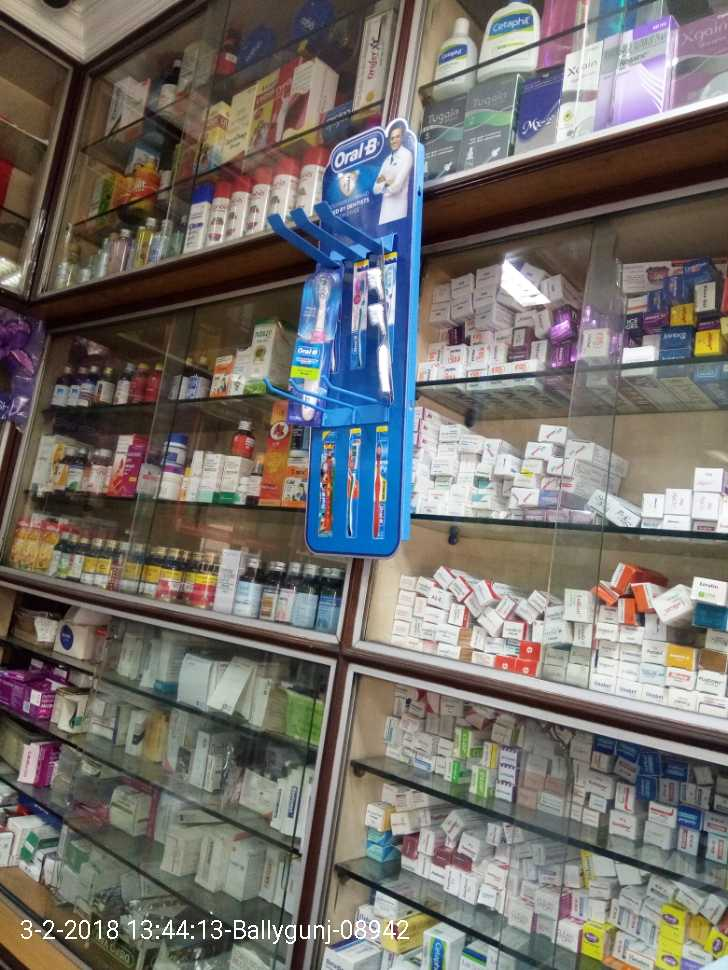oralb: (288, 271, 336, 404)
